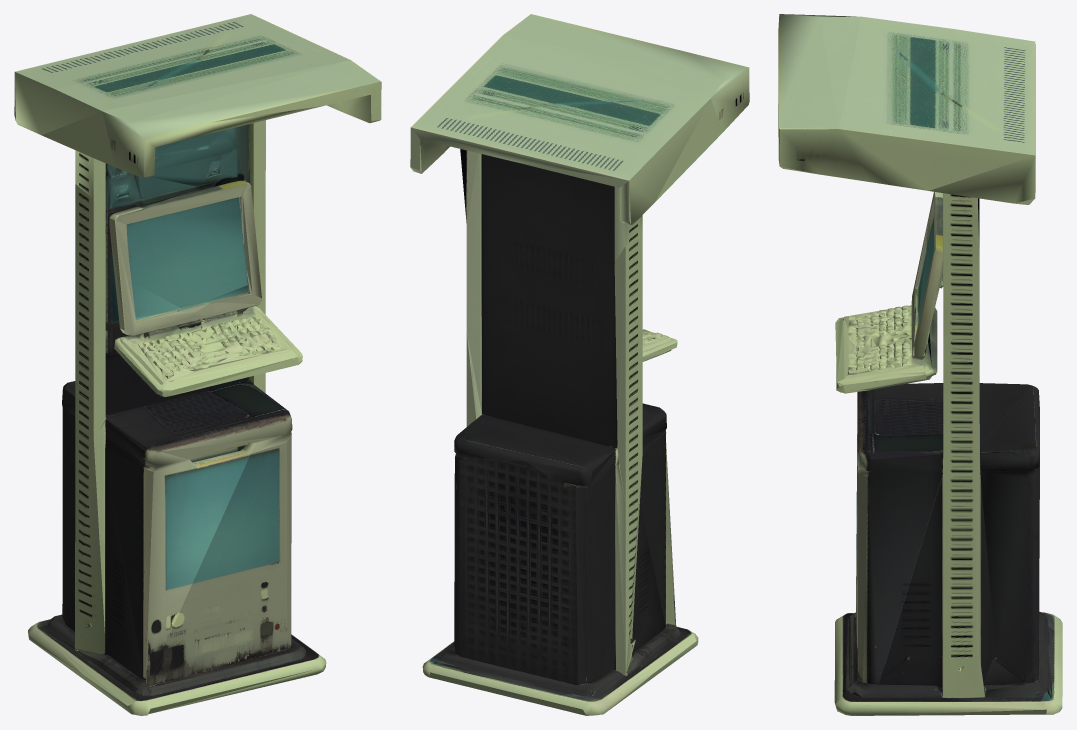
The model's file is refine.fbx.
The picture shows the model from 3 angles, left to right: view 1: azimuth 30°, elevation 25°; view 2: azimuth 150°, elevation 25°; view 3: azimuth 270°, elevation 25°; orthographic projection. The views are drawn at different scales.
Parts seen in each view (by area): view 1: Mesh_0; view 2: Mesh_0; view 3: Mesh_0.
Boxes of the visible parts, box(x1,y1,x2,y2) form: Mesh_0: box(14, 14, 381, 715); Mesh_0: box(410, 14, 749, 715); Mesh_0: box(778, 14, 1062, 715).
Size of the model in its own units: 77.91 by 190 by 81.72.
1 material, 1 textured.
